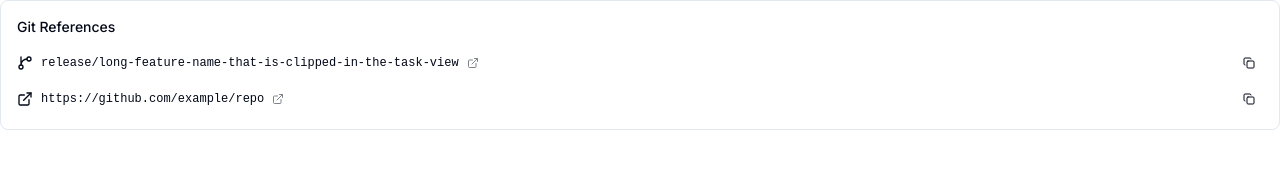
Test: task Git reference copying › reports clipboard failure without exposing browser details
The width and height of the screenshot is (1280, 171).
Click the button named "Copy branch reference release/long-feature-name-that-is-clip" at {"x": 1249, "y": 63}, box 1235,49 -> 1263,77
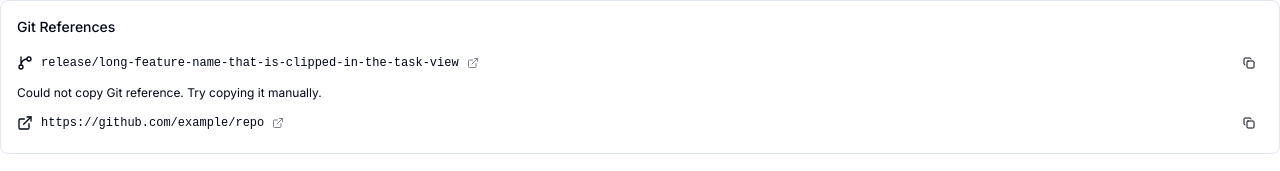
Expected: the message does not show "Synthetic permission detail", 17,85 -> 322,100
Expected: the message reads "Could not copy Git reference. Try copying it manually.", 17,85 -> 322,100
